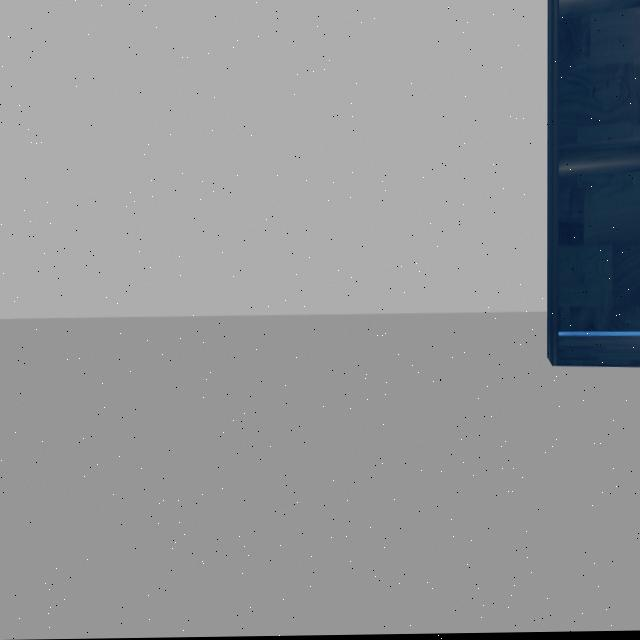shelf: (536, 0, 640, 405)
